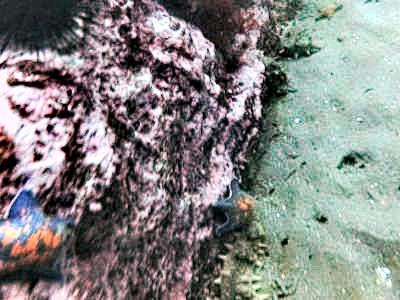urchin: (1, 2, 96, 58)
